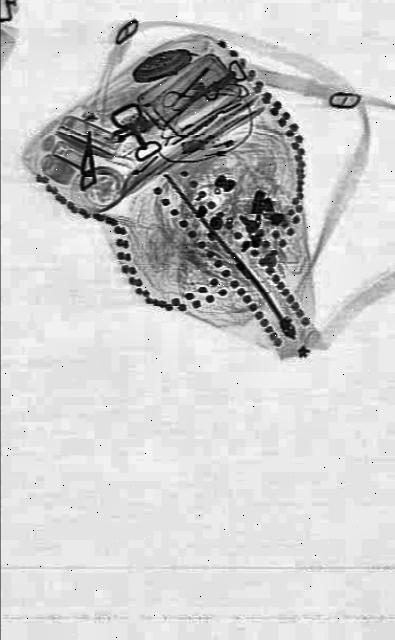Scissors: (161, 58, 214, 124)
